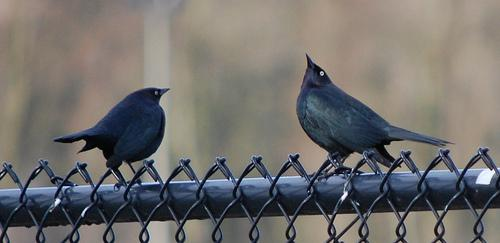009.Brewer_Blackbird: (293, 49, 454, 180), (53, 88, 176, 192)
